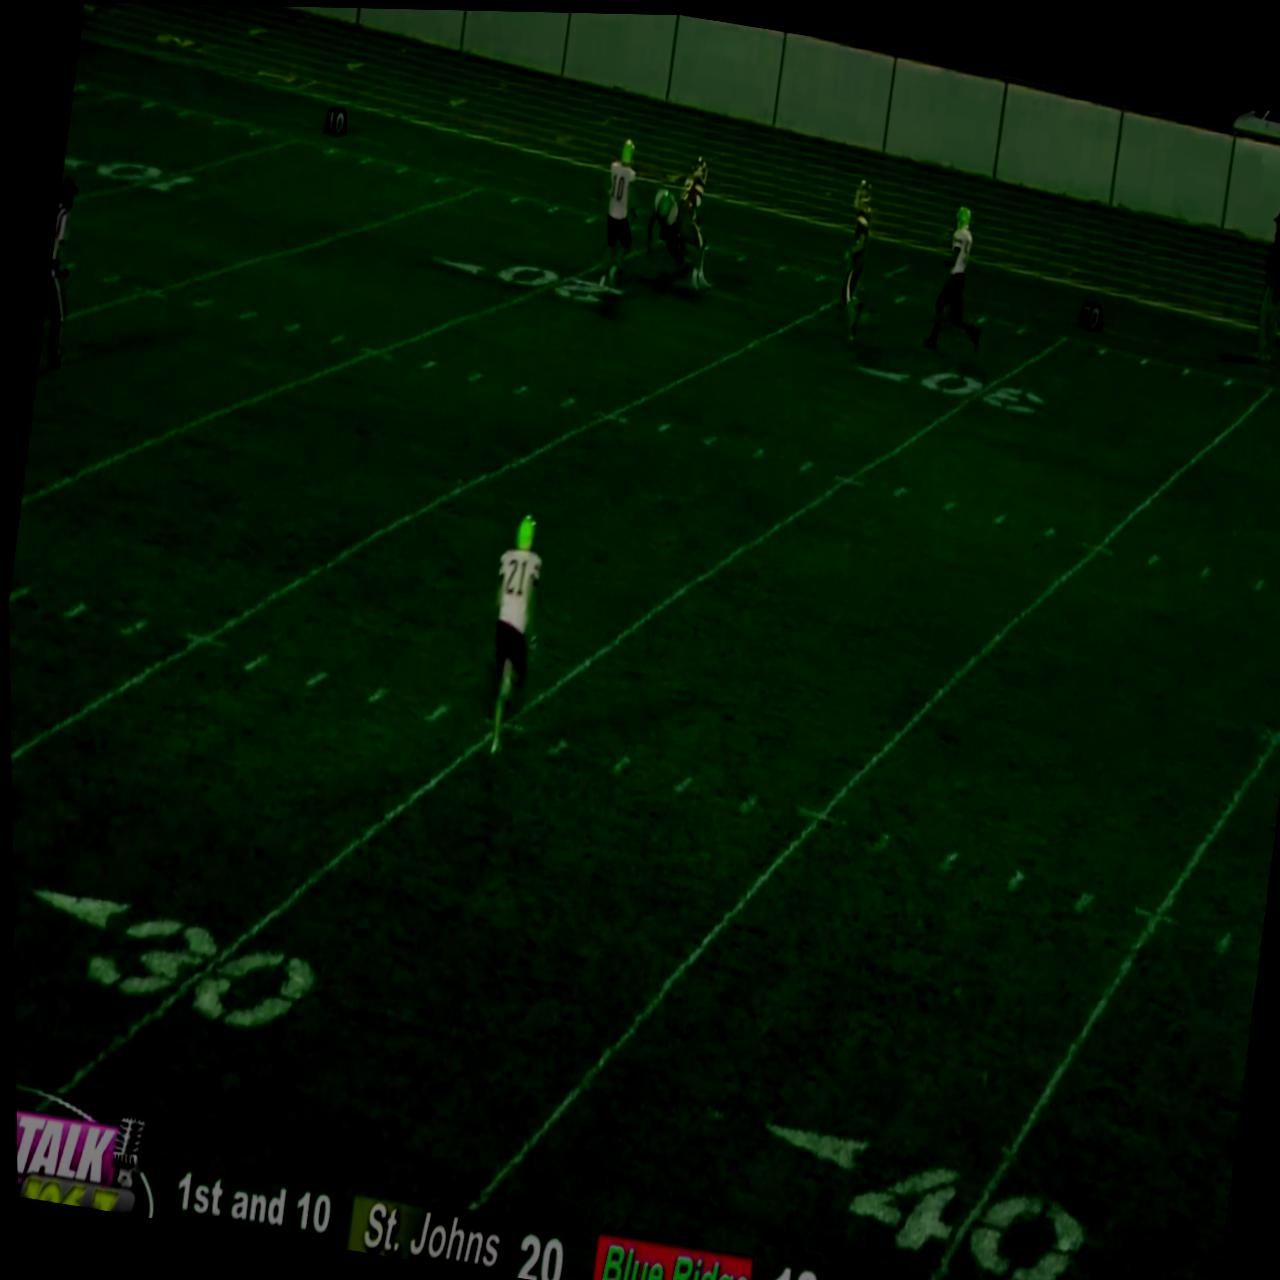10L: (60, 144, 196, 203)
20L: (428, 245, 626, 309)
30L: (11, 881, 316, 1041), (851, 349, 1044, 414)
40L: (743, 1111, 1092, 1280)
